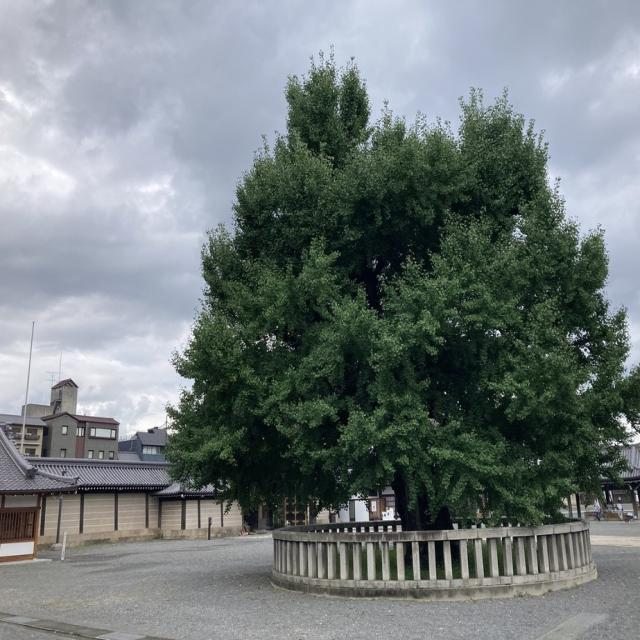ginkgo: (161, 40, 640, 568)
